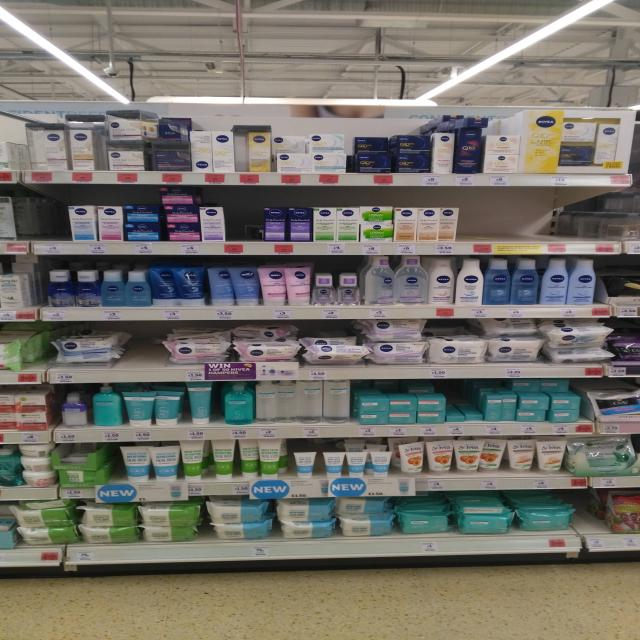void: (466, 209, 591, 240), (28, 188, 65, 242), (234, 202, 260, 242), (126, 341, 163, 366)
